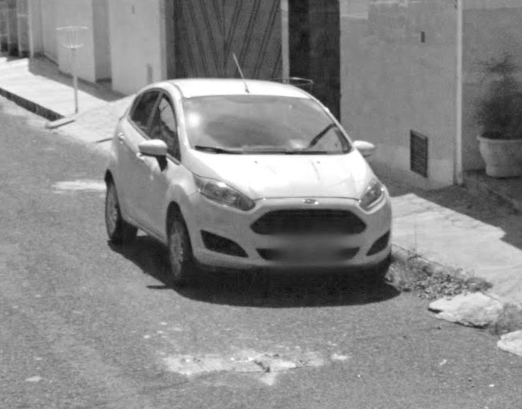car: (100, 50, 397, 293)
